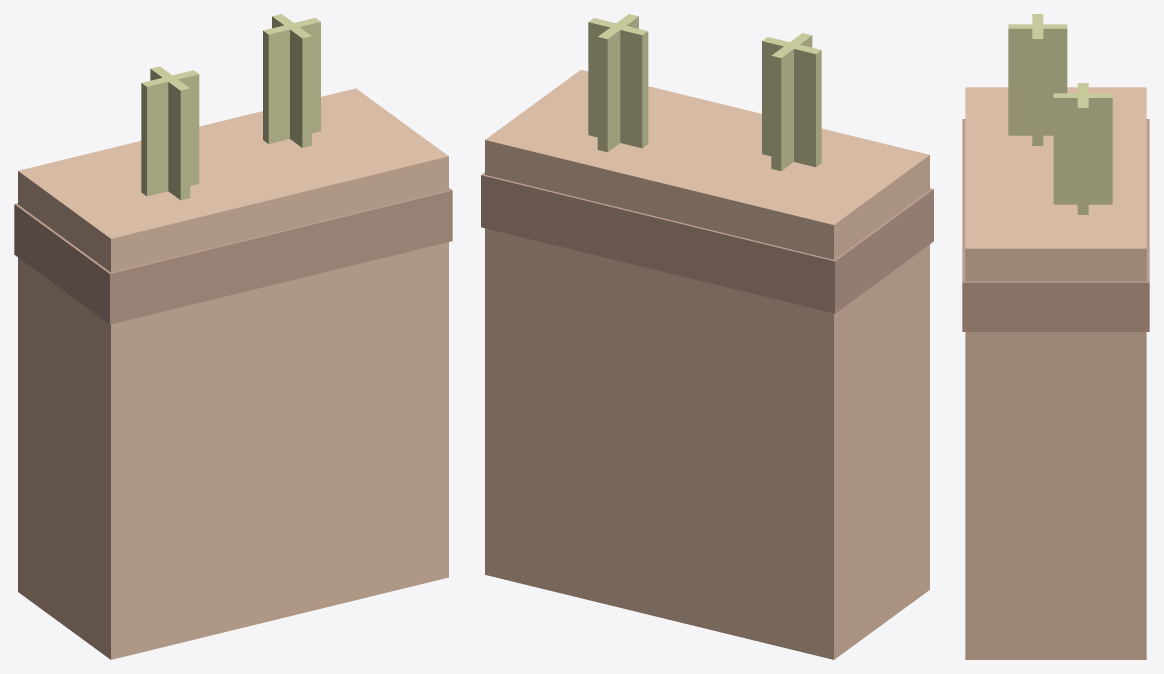
File: ce_ammo2_bolt_stone_b.obj
3 views of the same model, side by side, from view 1: azimuth 30°, elevation 25°; view 2: azimuth 150°, elevation 25°; view 3: azimuth 270°, elevation 25° (orthographic). The views are drawn at different scales.
Parts seen in each view (by area): view 1: ce_ammo2_bolt_stone_b_0, ce_ammo2_bolt_stone_b_1, ce_ammo2_bolt_stone_b_2, ce_ammo2_bolt_stone_b_4, ce_ammo2_bolt_stone_b_3, ce_ammo2_bolt_stone_b_5; view 2: ce_ammo2_bolt_stone_b_0, ce_ammo2_bolt_stone_b_1, ce_ammo2_bolt_stone_b_4, ce_ammo2_bolt_stone_b_2, ce_ammo2_bolt_stone_b_5, ce_ammo2_bolt_stone_b_3; view 3: ce_ammo2_bolt_stone_b_0, ce_ammo2_bolt_stone_b_1, ce_ammo2_bolt_stone_b_5, ce_ammo2_bolt_stone_b_3, ce_ammo2_bolt_stone_b_2, ce_ammo2_bolt_stone_b_4.
Boxes of the visible parts, x1,y1,x2,y2 form: ce_ammo2_bolt_stone_b_0: (18,88,448,659); ce_ammo2_bolt_stone_b_1: (14,188,452,324); ce_ammo2_bolt_stone_b_2: (141,70,199,196); ce_ammo2_bolt_stone_b_4: (263,18,320,143); ce_ammo2_bolt_stone_b_3: (150,66,190,200); ce_ammo2_bolt_stone_b_5: (272,14,311,147); ce_ammo2_bolt_stone_b_0: (485,70,929,659); ce_ammo2_bolt_stone_b_1: (481,172,933,313); ce_ammo2_bolt_stone_b_4: (588,18,648,148); ce_ammo2_bolt_stone_b_2: (762,37,821,167); ce_ammo2_bolt_stone_b_5: (597,14,638,152); ce_ammo2_bolt_stone_b_3: (771,33,812,170); ce_ammo2_bolt_stone_b_0: (965,87,1146,659); ce_ammo2_bolt_stone_b_1: (962,119,1149,331); ce_ammo2_bolt_stone_b_5: (1053,93,1112,204); ce_ammo2_bolt_stone_b_3: (1008,24,1067,135); ce_ammo2_bolt_stone_b_2: (1032,14,1043,145); ce_ammo2_bolt_stone_b_4: (1077,83,1088,214).
Bounding box in the file's own units: 0.426 × 0.63 × 0.206.
